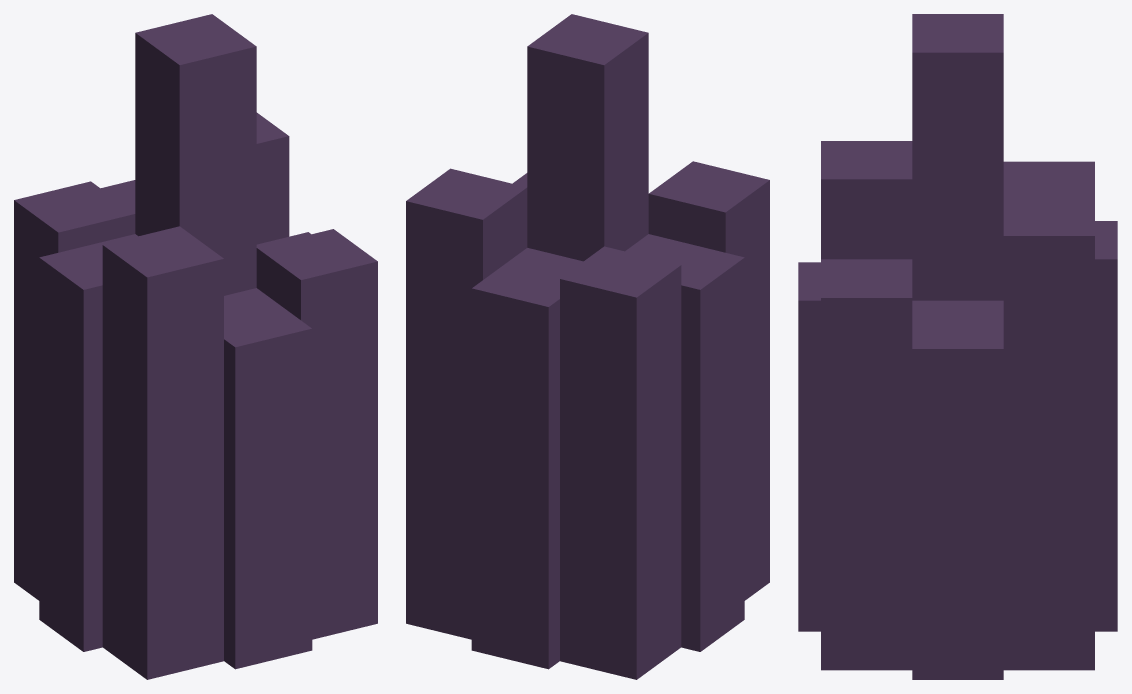
Rendered from Level3Crystal_8.dae.
3 views of the same model, side by side, from view 1: azimuth 30°, elevation 25°; view 2: azimuth 150°, elevation 25°; view 3: azimuth 270°, elevation 25° (orthographic). The views are drawn at different scales.
Visible parts, largest first — view 1: Level3Crystal_8; view 2: Level3Crystal_8; view 3: Level3Crystal_8.
Boxes of the visible parts, box(x1,y1,x2,y2) form: Level3Crystal_8: box(14, 14, 377, 679); Level3Crystal_8: box(406, 14, 769, 679); Level3Crystal_8: box(798, 14, 1117, 679).
Size of the model in its own units: 1.4 by 2.8 by 1.4.
1 material, 1 textured.
